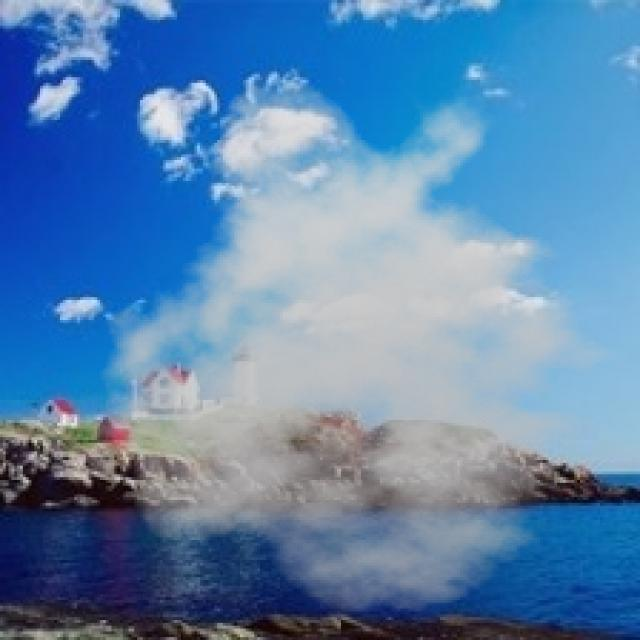Smoke: (72, 77, 638, 617)
